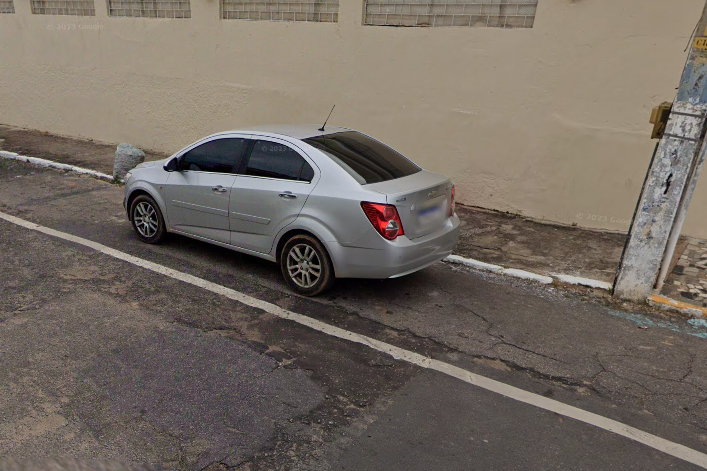car: (121, 103, 471, 308)
